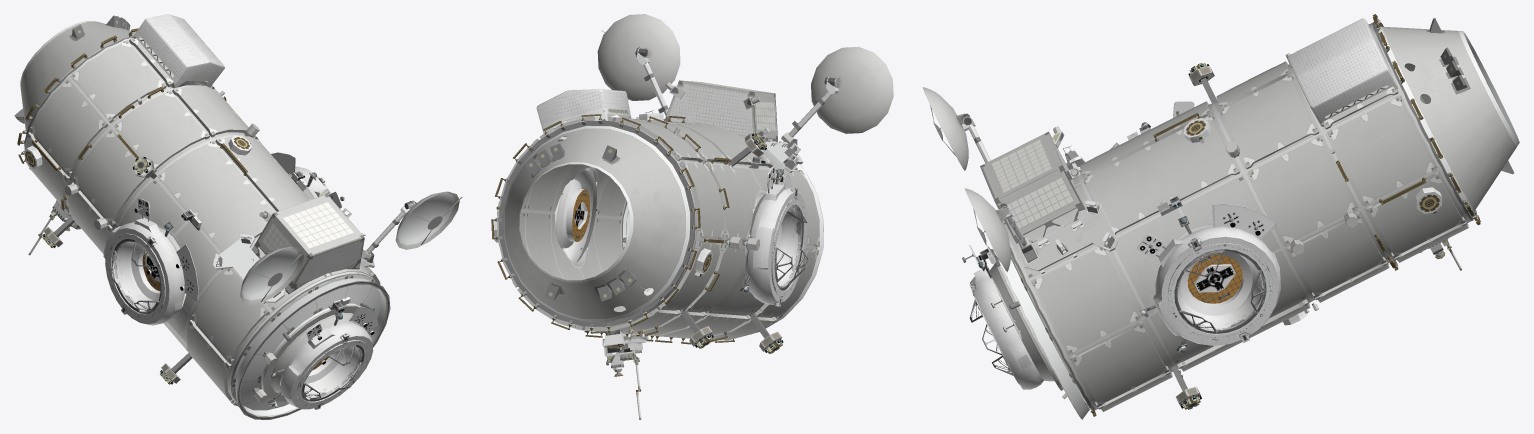
File: ng_halo.dae
The picture shows the model from 3 angles, left to right: view 1: azimuth 30°, elevation 25°; view 2: azimuth 150°, elevation 25°; view 3: azimuth 270°, elevation 25°; orthographic projection. The views are drawn at different scales.
Visible parts, largest first — view 1: NG_HALO.002, NDS port active.011, NDS port active.012, NDS port active.013; view 2: NG_HALO.002, NDS port active.011, NDS port active.013, NDS port active hatch.013; view 3: NG_HALO.002, NDS port active.013, NDS port active.012, NDS port active hatch.013.
Part boxes in pixels (left/top/right/bottom): NG_HALO.002: left=14, top=14, right=462, bottom=419; NDS port active.011: left=103, top=218, right=198, bottom=325; NDS port active.012: left=267, top=307, right=378, bottom=409; NDS port active.013: left=271, top=152, right=330, bottom=198; NG_HALO.002: left=491, top=14, right=893, bottom=419; NDS port active.011: left=740, top=169, right=808, bottom=306; NDS port active.013: left=554, top=167, right=597, bottom=263; NDS port active hatch.013: left=572, top=189, right=589, bottom=241; NG_HALO.002: left=922, top=14, right=1519, bottom=419; NDS port active.013: left=1139, top=203, right=1280, bottom=352; NDS port active.012: left=969, top=260, right=1043, bottom=389; NDS port active hatch.013: left=1187, top=254, right=1242, bottom=303.
Bounding box in the file's own units: 4.94 × 8.04 × 5.6.
Materials: 3 (3 with a texture image).
